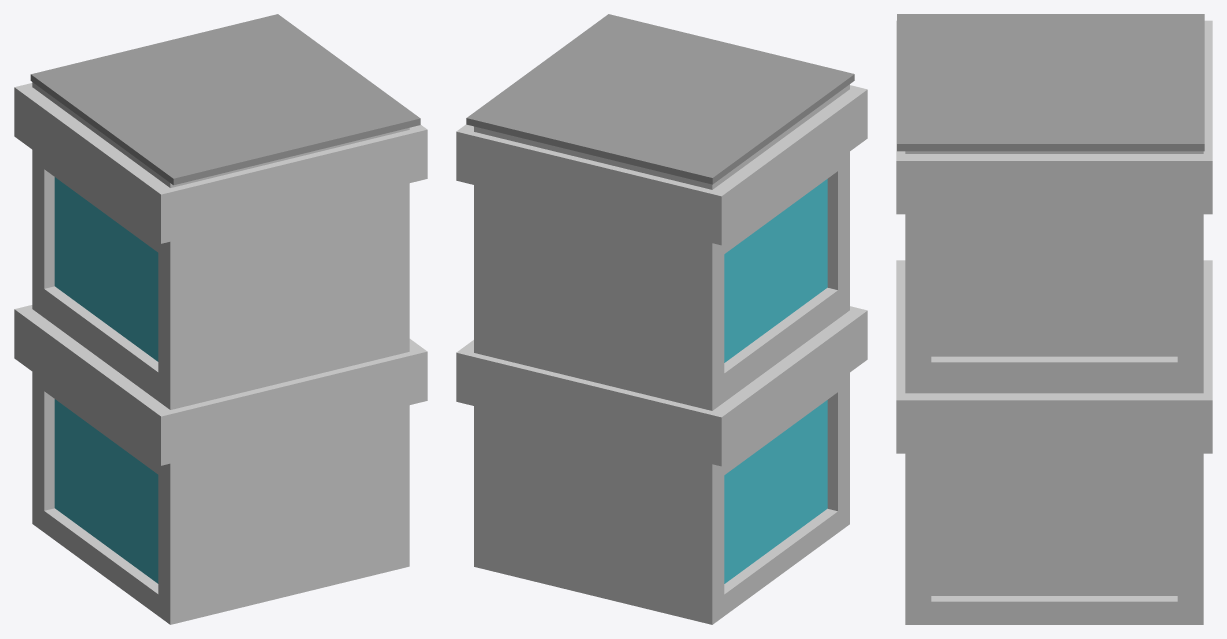
File: SM_Building_001.fbx
The picture shows the model from 3 angles, left to right: view 1: azimuth 30°, elevation 25°; view 2: azimuth 150°, elevation 25°; view 3: azimuth 270°, elevation 25°; orthographic projection. The views are drawn at different scales.
Parts seen in each view (by area): view 1: SM_Building_001.001; view 2: SM_Building_001.001; view 3: SM_Building_001.001.
Part boxes in pixels (box(x1,y1,x2,y2)): SM_Building_001.001: box(14, 14, 427, 624); SM_Building_001.001: box(456, 14, 867, 624); SM_Building_001.001: box(896, 14, 1212, 624).
Bounding box in the file's own units: 4.45 × 7.17 × 4.25.
